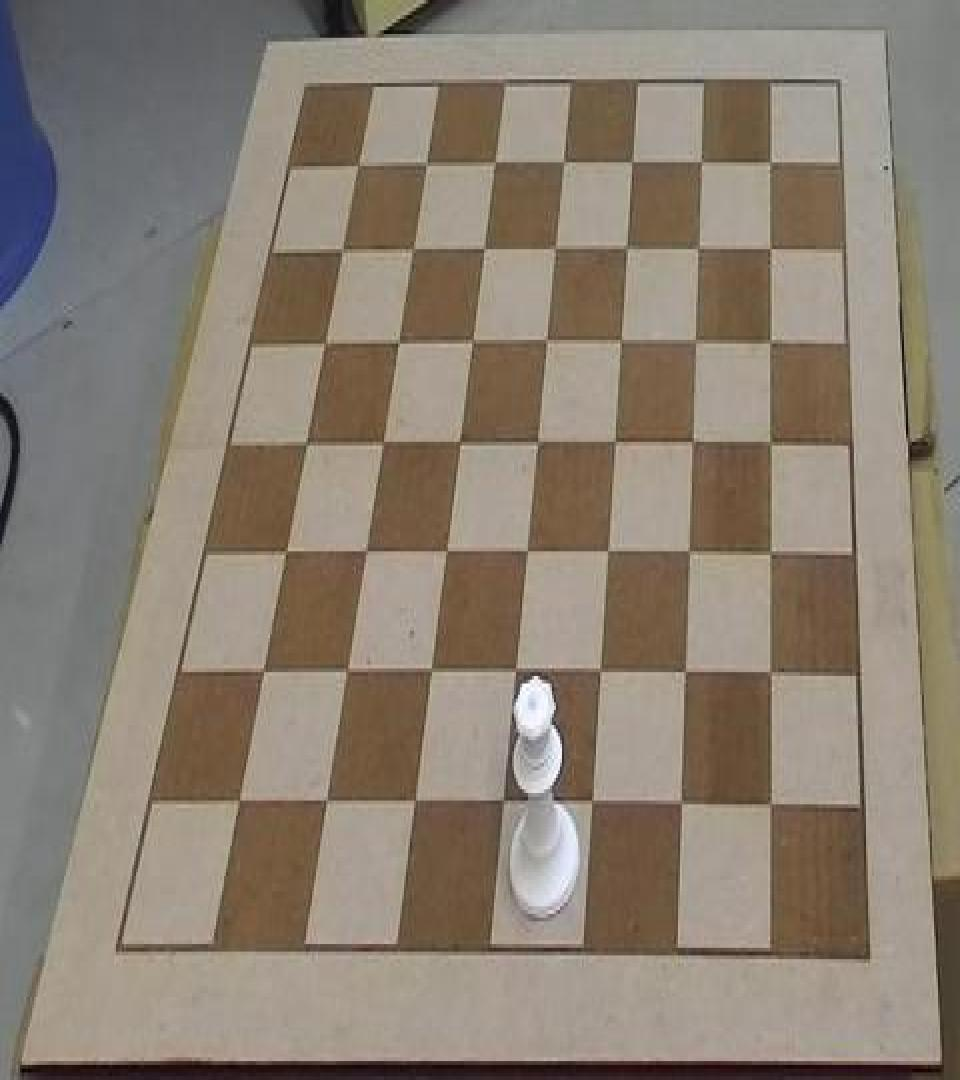xcorner: (760, 144, 780, 182), (690, 146, 710, 184), (621, 146, 641, 184), (552, 146, 572, 184), (483, 146, 503, 184), (415, 146, 435, 184), (347, 146, 367, 184), (760, 230, 780, 268), (688, 230, 708, 268), (616, 230, 636, 268), (544, 230, 564, 268), (473, 230, 493, 268), (402, 230, 422, 268), (331, 230, 351, 268), (761, 322, 781, 360), (686, 322, 706, 360), (611, 322, 631, 360), (536, 322, 556, 360), (462, 322, 482, 360), (388, 322, 408, 360), (314, 322, 334, 360), (762, 424, 782, 462), (683, 424, 703, 462), (605, 424, 625, 462), (527, 424, 547, 462), (450, 424, 470, 462), (372, 423, 392, 461), (295, 423, 315, 461), (762, 536, 782, 574), (680, 534, 700, 572), (599, 534, 619, 572), (517, 534, 537, 572), (436, 534, 456, 572), (355, 532, 375, 570), (275, 532, 295, 570), (763, 657, 783, 695), (677, 657, 697, 695), (592, 655, 612, 693), (506, 655, 526, 693), (422, 653, 442, 691), (337, 653, 357, 691), (253, 653, 273, 691), (764, 791, 784, 829), (674, 789, 694, 827), (584, 787, 604, 825), (495, 787, 515, 825), (405, 786, 425, 824), (317, 786, 337, 824), (229, 784, 249, 822)
